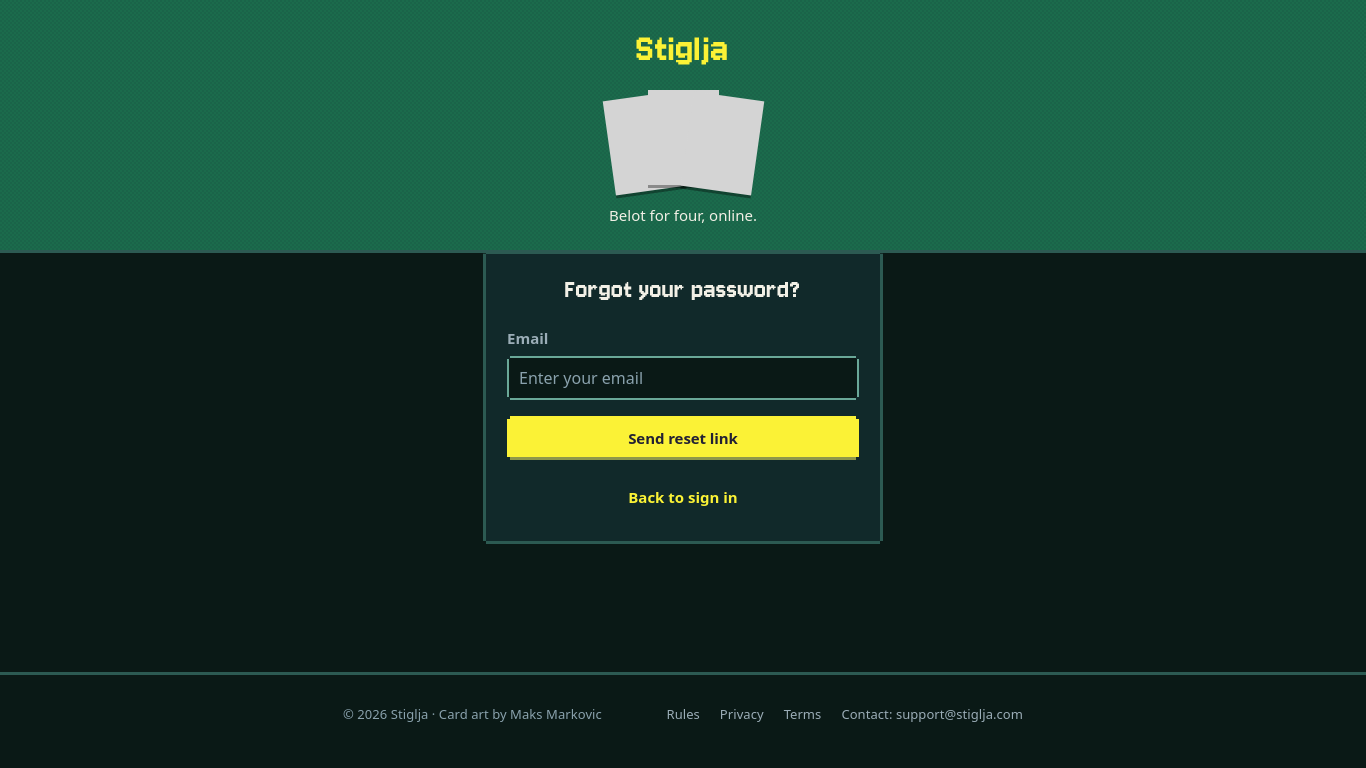
ForgotPasswordPage › a rate limit shows the server message
Type "ana@example.com" into the field labelled "Email".
click(683, 378); type("ana@example.com")  # box [507,356,859,400]
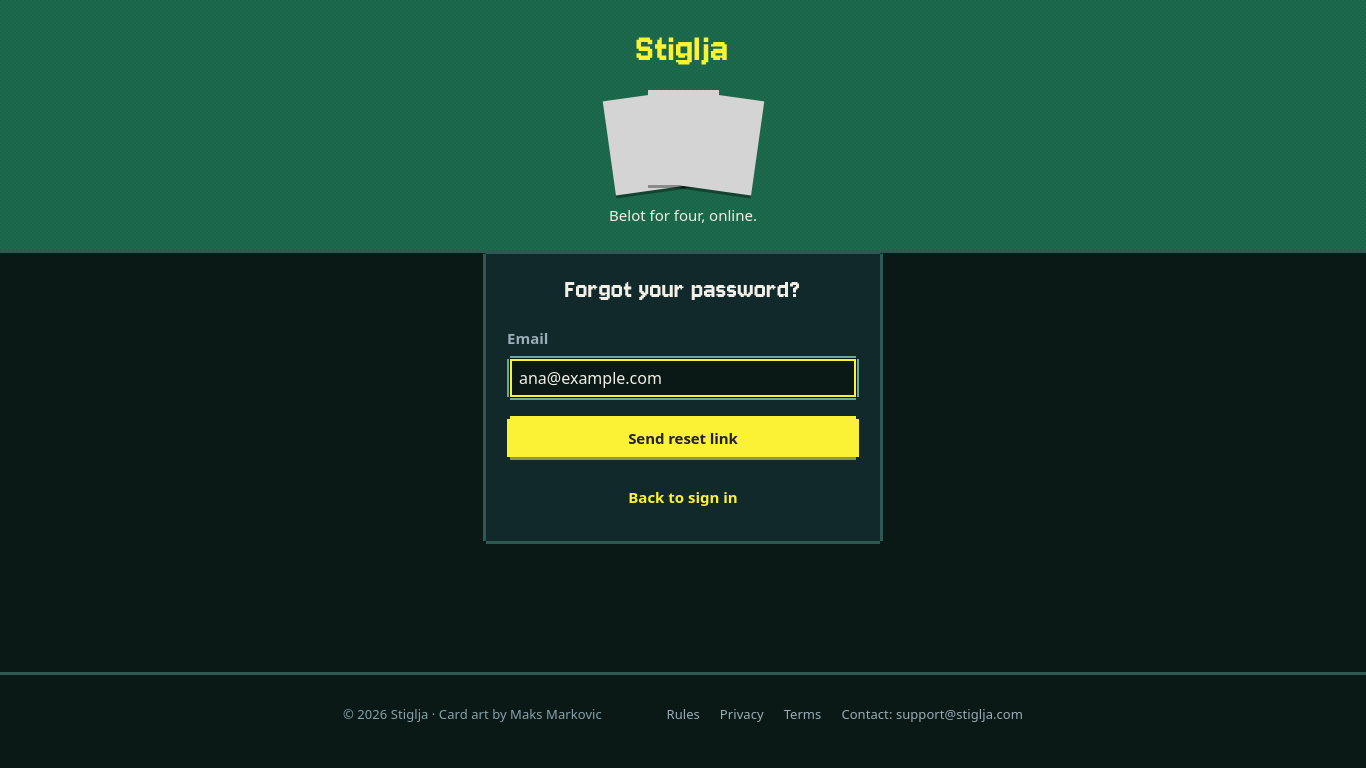
Click the button "Send reset link".
click(683, 438)  # box [507,416,859,460]
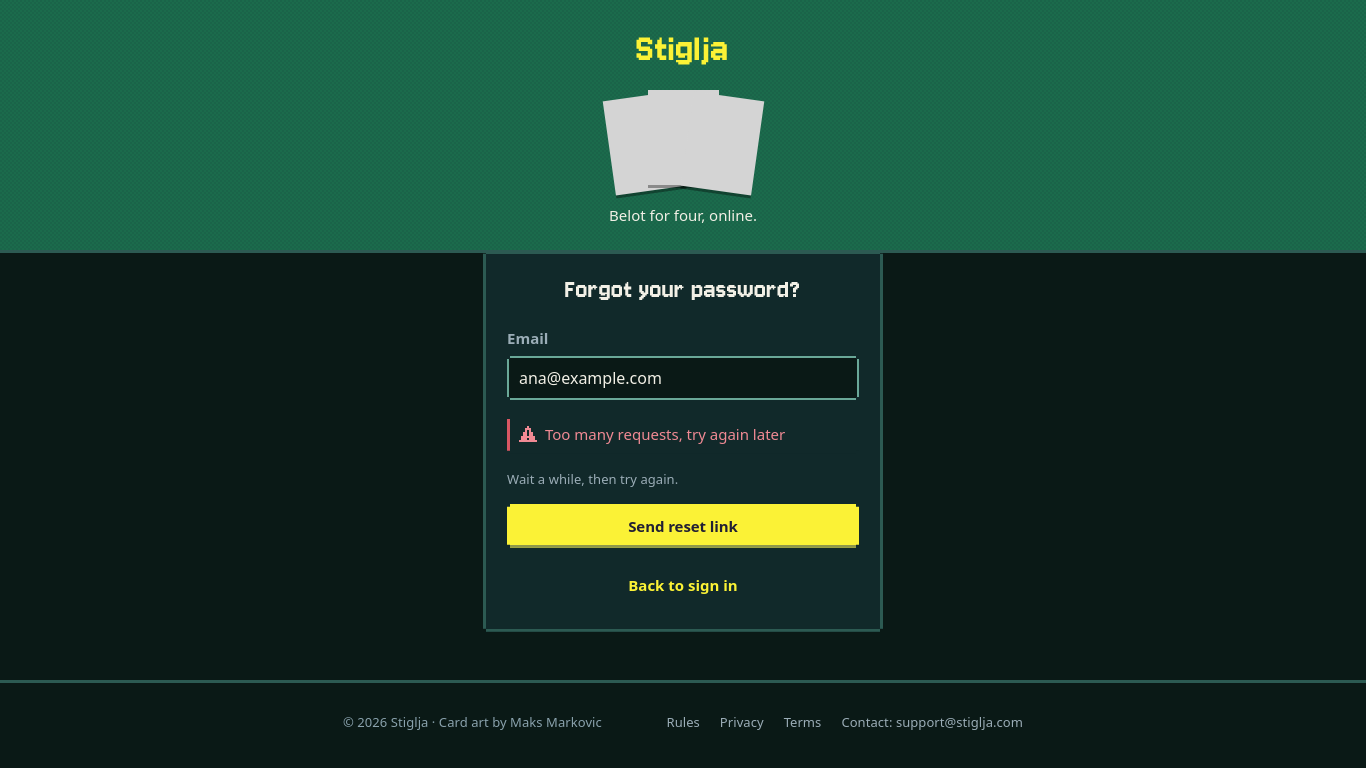
Now the message reads "Too many requests, try again later", box [545,424,785,444]
Now the text "Wait a while, then try again." is shown, box [507,470,678,488]
